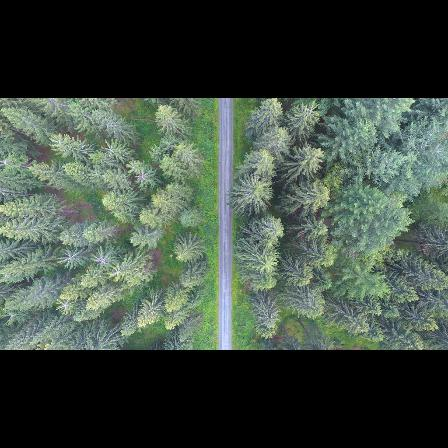Sick: (128, 164, 158, 190), (90, 247, 115, 272), (58, 247, 83, 271), (53, 295, 77, 315)
